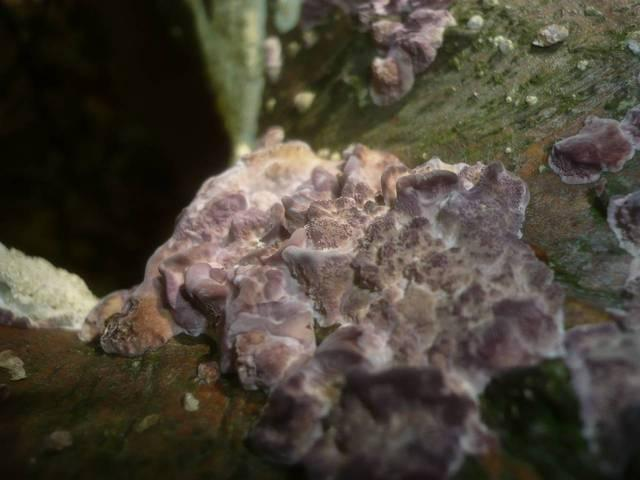poisonous_mushroom: (79, 128, 569, 477), (546, 112, 635, 186)
